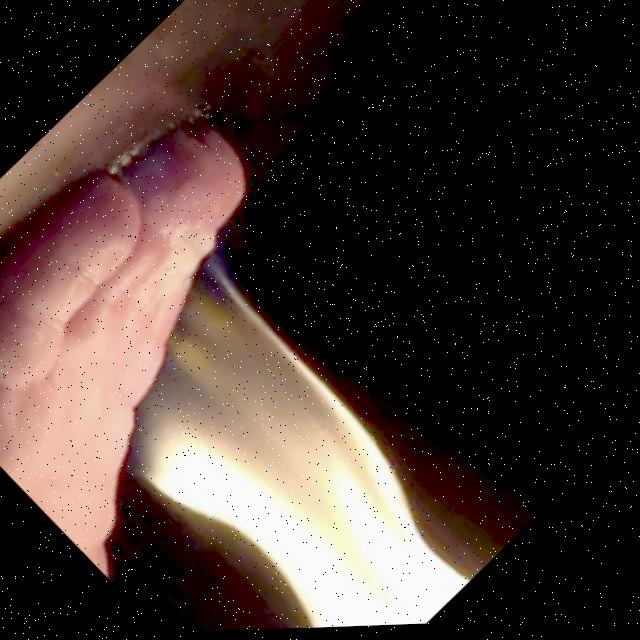Fire: (38, 245, 512, 638)
